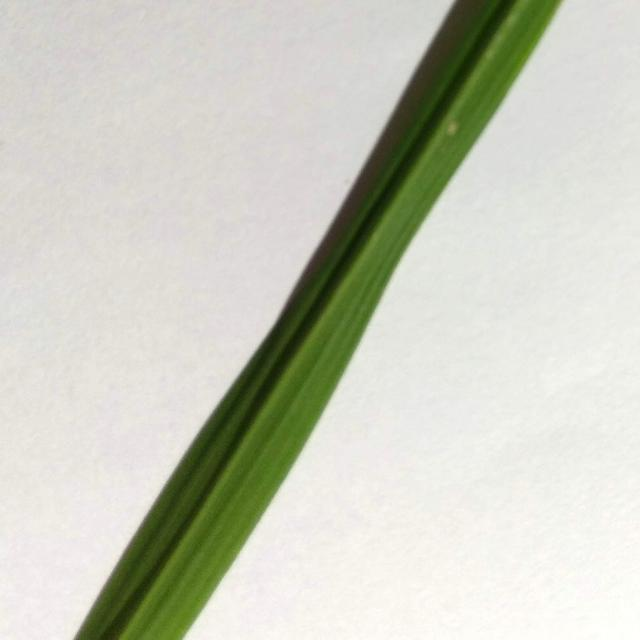Rice_Healthy: (75, 0, 562, 640)
